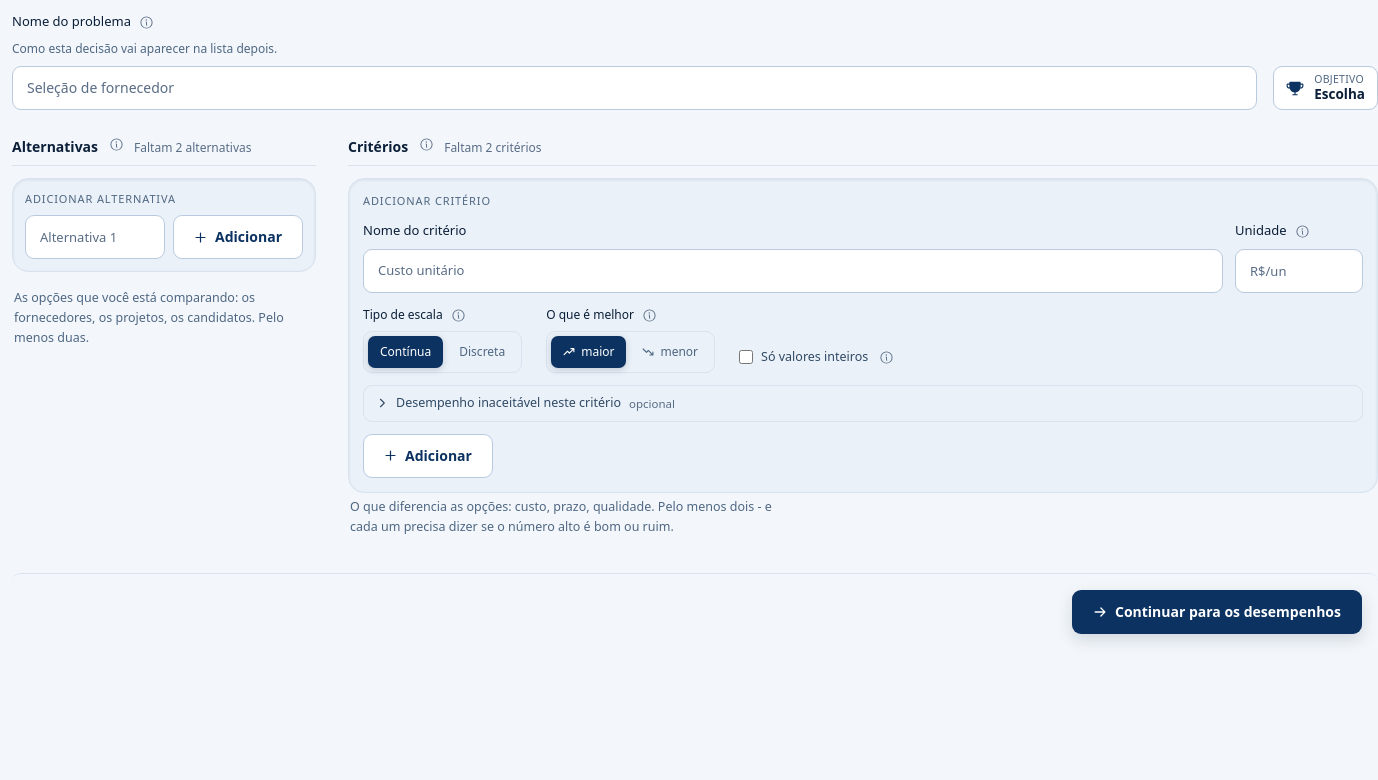
Scenario: lista de alternativas › exclui a escolhida, e só ela
Step 1. Type "Fornecedor A" into the field named "Nome da nova alternativa" → (95, 237), box top-left (25, 215), bottom-right (165, 259)
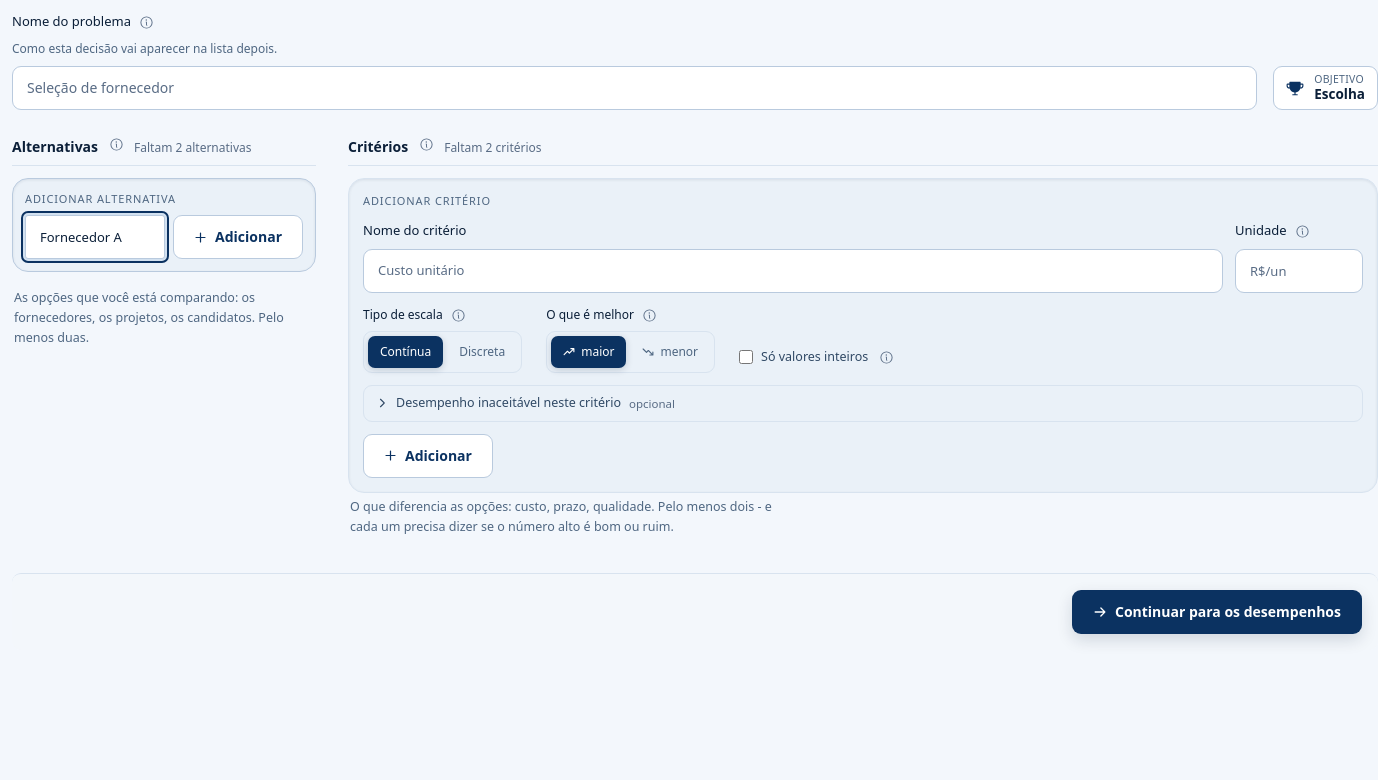
Step 2. Click the button "Adicionar" below "Adicionar alternativa" → click(238, 237), box top-left (173, 215), bottom-right (303, 259)
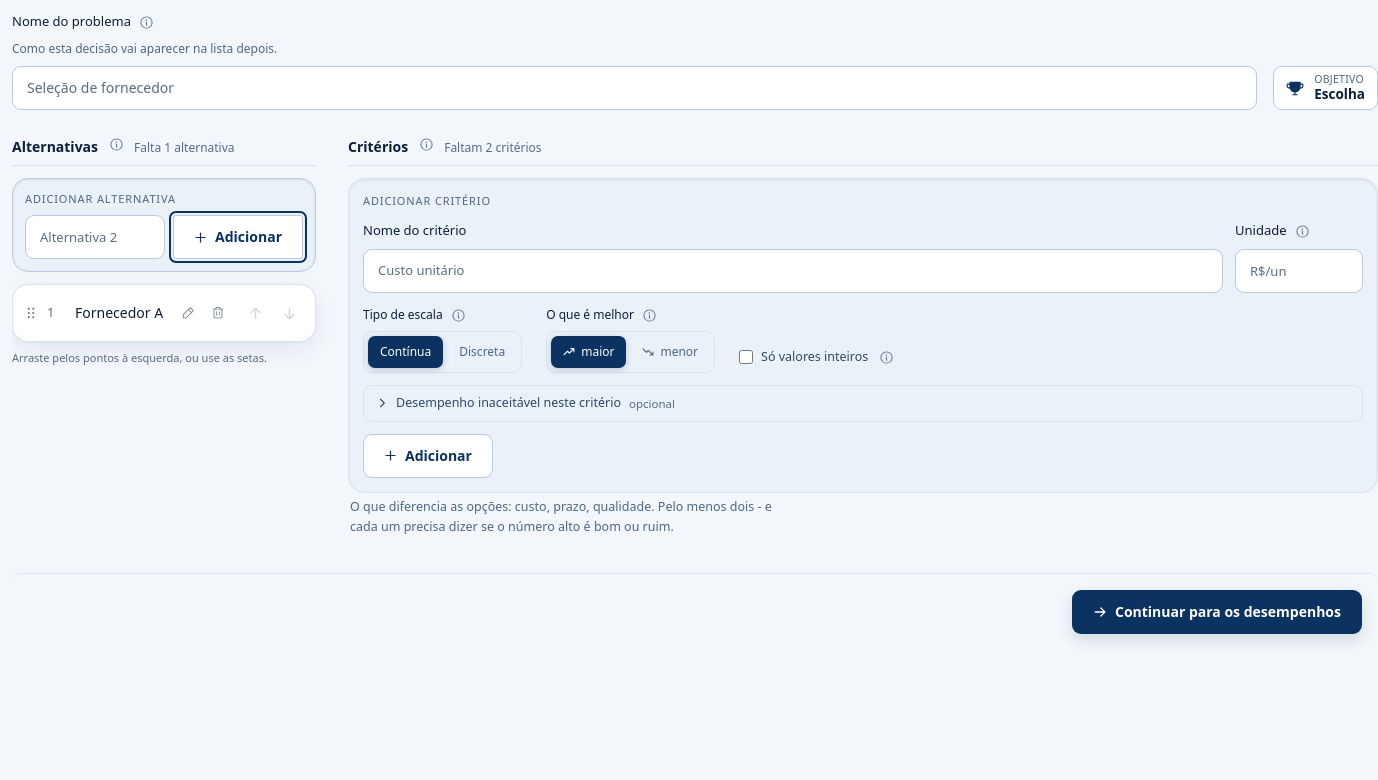
Step 3. Type "Fornecedor B" into the field named "Nome da nova alternativa" → (95, 237), box top-left (25, 215), bottom-right (165, 259)
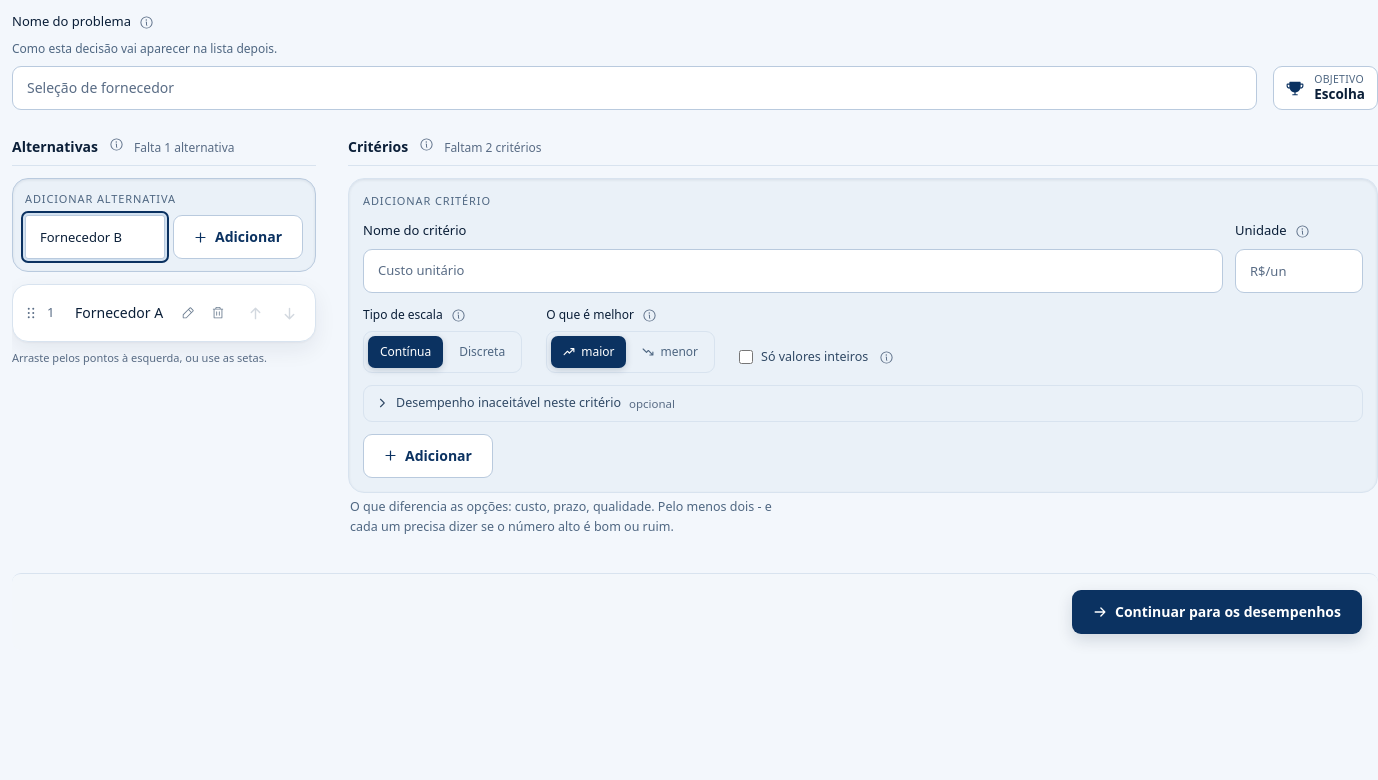
Step 4. Click the button "Adicionar" below "Adicionar alternativa" → click(238, 237), box top-left (173, 215), bottom-right (303, 259)
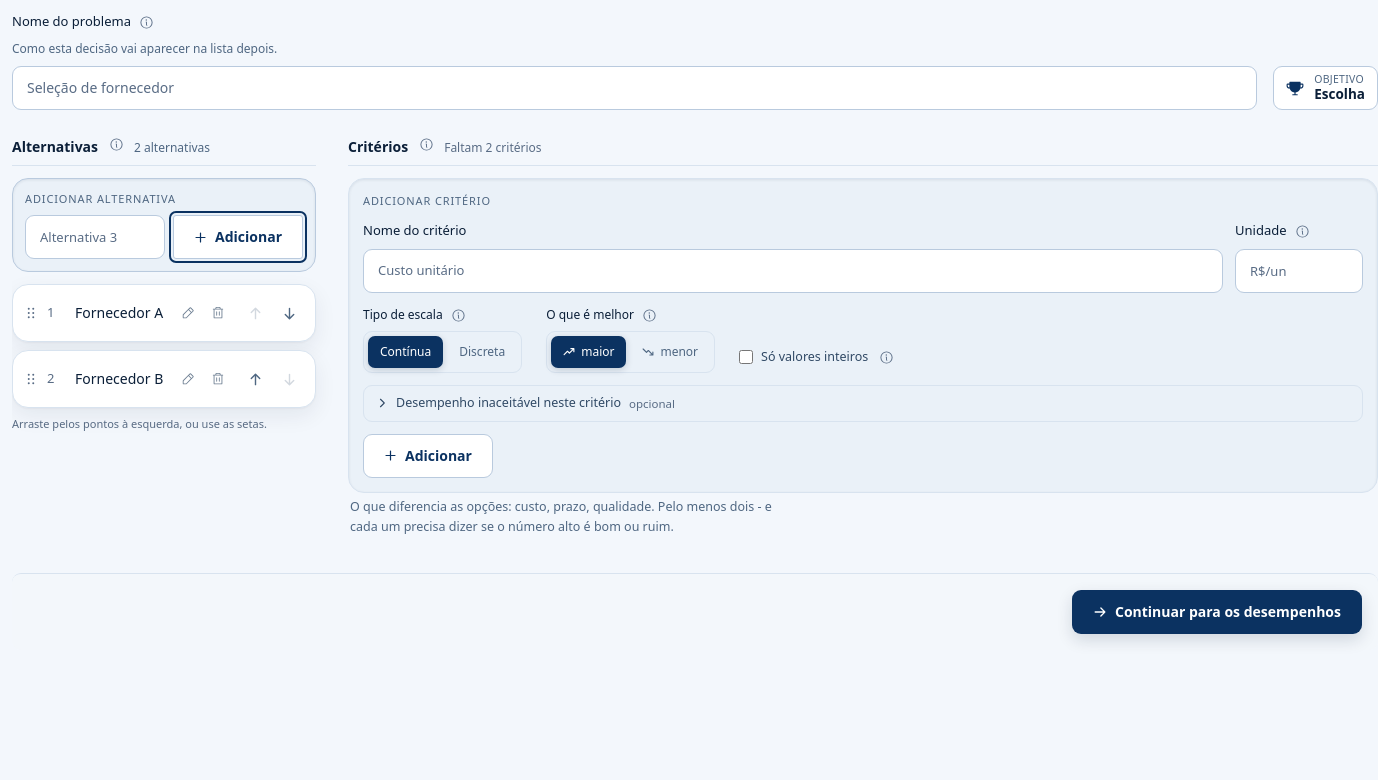
Step 5. Click the button named "Excluir Fornecedor A" → click(218, 313), box top-left (205, 300), bottom-right (231, 326)
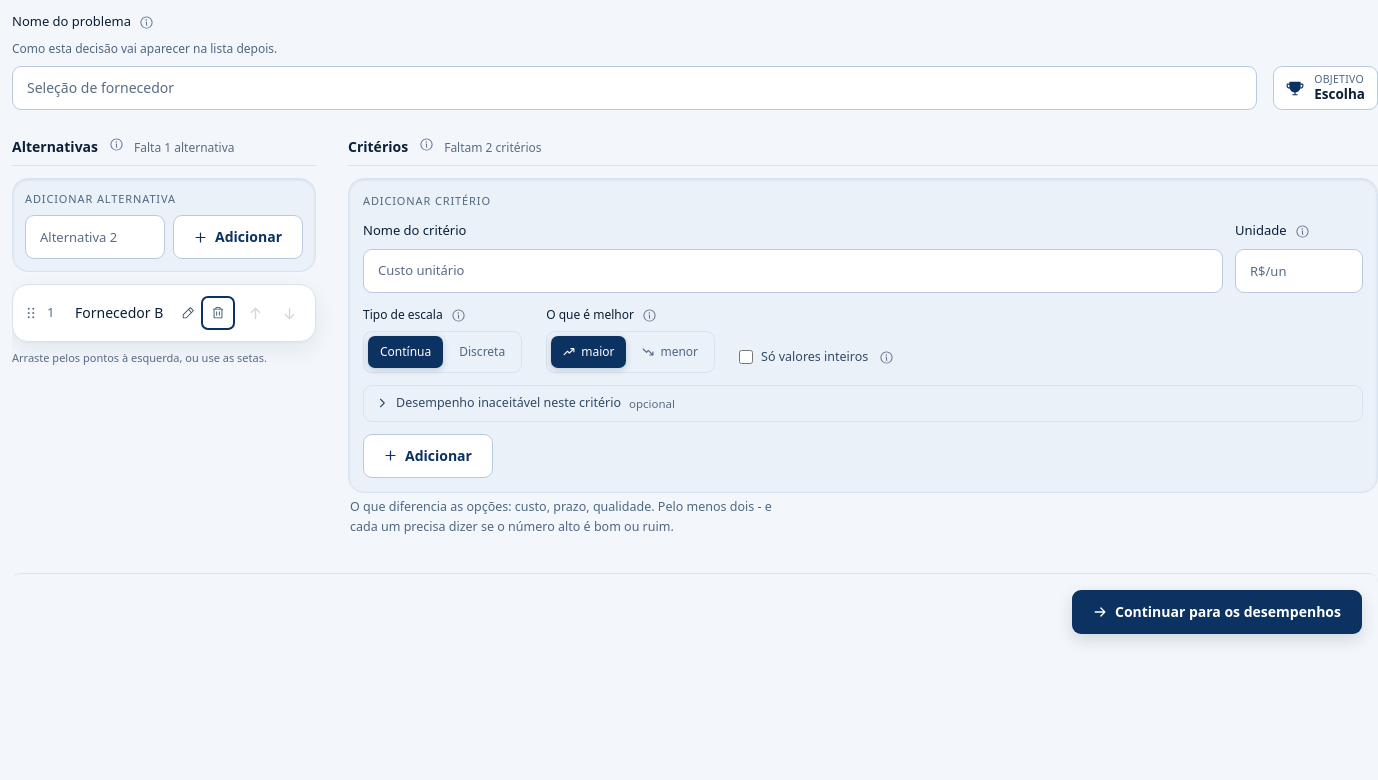
expect the text "Fornecedor B" is shown: met, box top-left (75, 303), bottom-right (167, 323)
